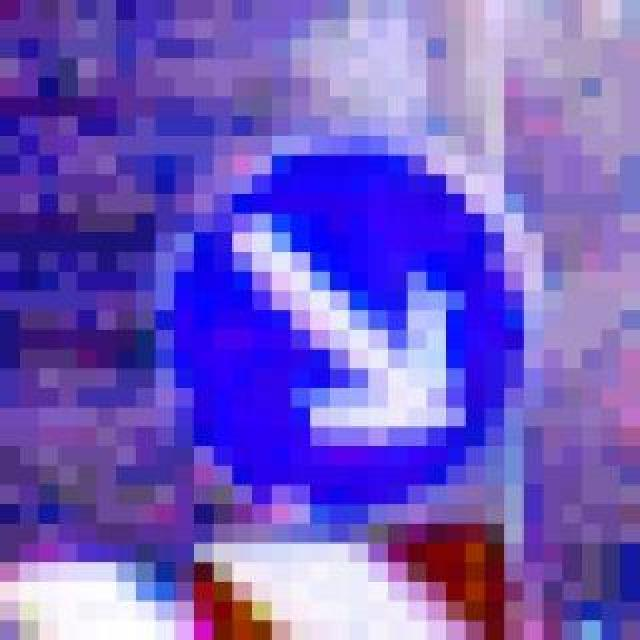keep right: (116, 98, 524, 486)
